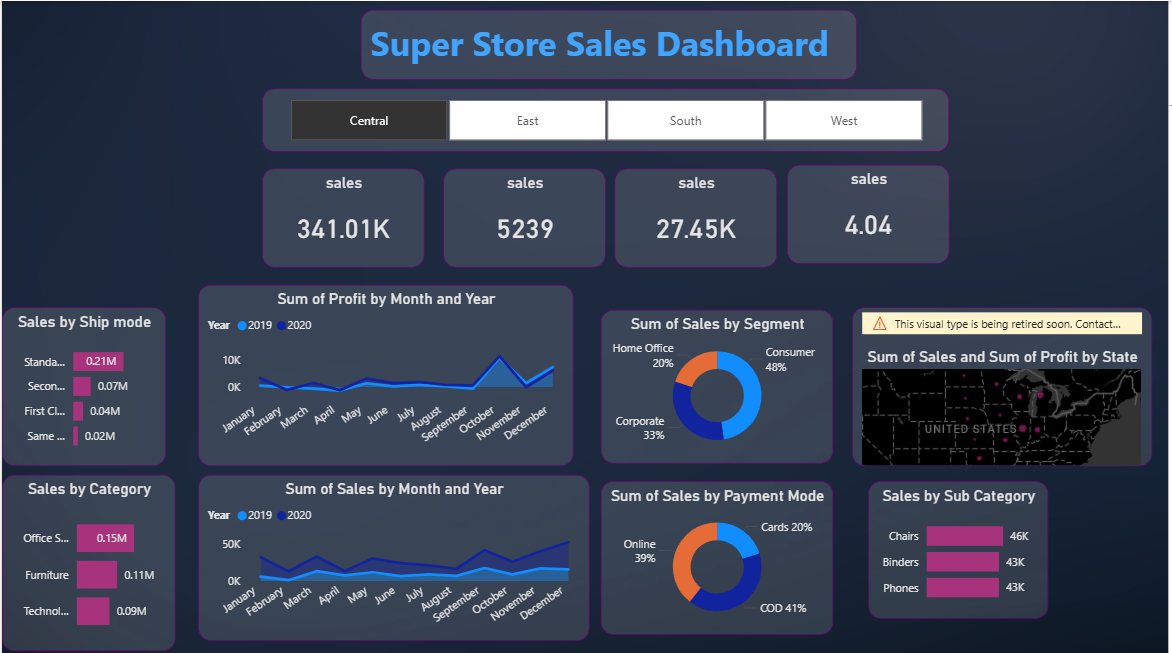

What the dashboard file says about the page in this screenshot:
{"tool":"powerbi","page":{"name":"Page 1","canvas":[1280,720],"ordinal":0},"visuals":[{"type":"clusteredBarChart","title":"Sales by Category","fields":{"Category":["SuperStore_Sales_Dataset.Category"],"Y":["Sum(SuperStore_Sales_Dataset.Sales)"]},"box":[0,520.1,190.7,193.5],"z":0},{"type":"clusteredBarChart","title":"Sales by Sub Category","fields":{"Category":["SuperStore_Sales_Dataset.Sub-Category"],"Y":["Sum(SuperStore_Sales_Dataset.Sales)"]},"box":[950.9,526.9,197.6,150.9],"z":1000},{"type":"clusteredBarChart","title":"Sales by Ship mode","fields":{"Category":["SuperStore_Sales_Dataset.Ship Mode"],"Y":["Sum(SuperStore_Sales_Dataset.Sales)"]},"box":[0,336.2,179.8,174.3],"z":2000},{"type":"stackedAreaChart","fields":{"Category":["SuperStore_Sales_Dataset.Order Date.Variation.Date Hierarchy.Month","SuperStore_Sales_Dataset.Order Date.Variation.Date Hierarchy.Day"],"Y":["Sum(SuperStore_Sales_Dataset.Sales)"],"Series":["SuperStore_Sales_Dataset.Order Date.Variation.Date Hierarchy.Year"]},"box":[215.4,520.1,429.5,182.5],"z":3000},{"type":"stackedAreaChart","fields":{"Category":["SuperStore_Sales_Dataset.Order Date.Variation.Date Hierarchy.Month","SuperStore_Sales_Dataset.Order Date.Variation.Date Hierarchy.Day"],"Series":["SuperStore_Sales_Dataset.Order Date.Variation.Date Hierarchy.Year"],"Y":["Sum(SuperStore_Sales_Dataset.Profit)"]},"box":[215.4,311.5,411.7,199],"z":4000},{"type":"map","fields":{"Category":["SuperStore_Sales_Dataset.State"],"Size":["Sum(SuperStore_Sales_Dataset.Sales)"]},"box":[933.1,336.2,329.3,171.5],"z":5000},{"type":"donutChart","fields":{"Category":["SuperStore_Sales_Dataset.Segment"],"Y":["Sum(SuperStore_Sales_Dataset.Sales)"]},"box":[657.3,338.9,255.2,168.8],"z":6000},{"type":"slicer","fields":{"Values":["SuperStore_Sales_Dataset.Region"]},"box":[285.4,96.1,754.7,70],"z":7000},{"type":"textbox","box":[393.8,9.6,544.8,76.8],"z":8000},{"type":"card","title":"sales","fields":{"Values":["Sum(SuperStore_Sales_Dataset.Sales)"]},"box":[285.4,183.9,178.4,108.4],"z":9000},{"type":"card","title":"sales","fields":{"Values":["Avg(SuperStore_Sales_Dataset.AvgDelievery)"]},"box":[861.8,179.8,178.4,108.4],"z":9001},{"type":"card","title":"sales","fields":{"Values":["Sum(SuperStore_Sales_Dataset.Profit)"]},"box":[672.4,183.9,178.4,108.4],"z":9002},{"type":"card","title":"sales","fields":{"Values":["Sum(SuperStore_Sales_Dataset.Quantity)"]},"box":[484.4,183.9,178.4,108.4],"z":9003},{"type":"donutChart","fields":{"Y":["Sum(SuperStore_Sales_Dataset.Sales)"],"Series":["SuperStore_Sales_Dataset.Payment Mode"]},"box":[657.3,526.9,255.2,168.8],"z":9004}]}

Visuals, with their boxes in screenshot pixels (x1, y1, x2, y2), scaled from the page's 1280x720 canvas onto the 1172x653 screenshot:
"Sales by Category" clusteredBarChart: [0, 472, 175, 647]
"Sales by Sub Category" clusteredBarChart: [871, 478, 1052, 615]
"Sales by Ship mode" clusteredBarChart: [0, 305, 165, 463]
stackedAreaChart - SuperStore_Sales_Dataset.Order Date.Variation.Date Hierarchy.Month x SuperStore_Sales_Dataset.Order Date.Variation.Date Hierarchy.Day: [197, 472, 590, 637]
stackedAreaChart - SuperStore_Sales_Dataset.Order Date.Variation.Date Hierarchy.Month x SuperStore_Sales_Dataset.Order Date.Variation.Date Hierarchy.Day: [197, 283, 574, 463]
map - SuperStore_Sales_Dataset.State x Sum(SuperStore_Sales_Dataset.Sales): [854, 305, 1156, 460]
donutChart - SuperStore_Sales_Dataset.Segment x Sum(SuperStore_Sales_Dataset.Sales): [602, 307, 836, 460]
slicer - SuperStore_Sales_Dataset.Region: [261, 87, 952, 151]
textbox: [361, 9, 859, 78]
"sales" card: [261, 167, 425, 265]
"sales" card: [789, 163, 952, 261]
"sales" card: [616, 167, 779, 265]
"sales" card: [444, 167, 607, 265]
donutChart - Sum(SuperStore_Sales_Dataset.Sales) x SuperStore_Sales_Dataset.Payment Mode: [602, 478, 836, 631]
